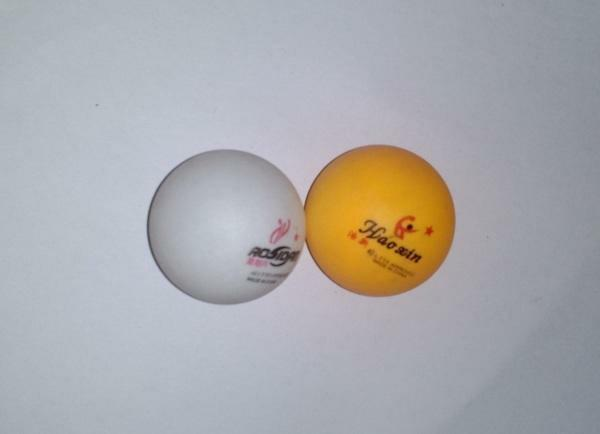ball: (138, 143, 309, 308), (300, 139, 459, 302)
